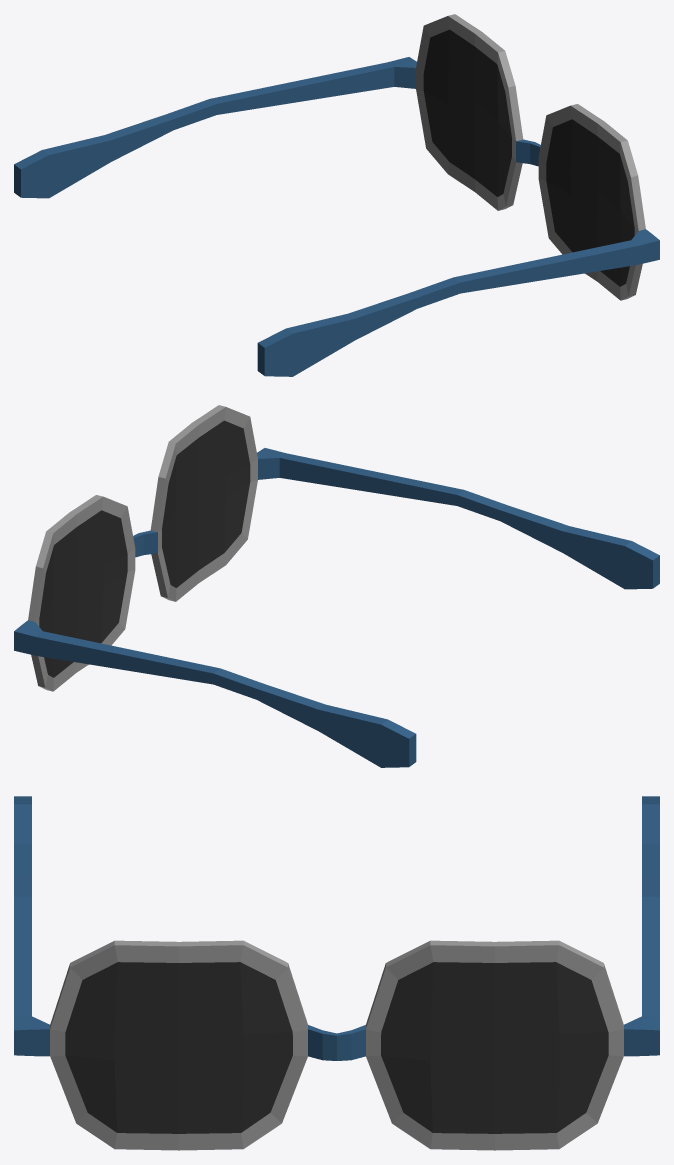
The model's file is 008. Prop Shades.fbx.
The picture shows the model from 3 angles, top to bottom: view 1: azimuth 30°, elevation 25°; view 2: azimuth 150°, elevation 25°; view 3: azimuth 270°, elevation 25°; orthographic projection. The views are drawn at different scales.
Visible parts, largest first — view 1: Cube; view 2: Cube; view 3: Cube.
Boxes of the visible parts, x1=… form: Cube: x1=14, y1=14, x2=659, y2=376; Cube: x1=14, y1=405, x2=659, y2=767; Cube: x1=14, y1=796, x2=659, y2=1150.
Size of the model in its own units: 133 by 49.78 by 143.
